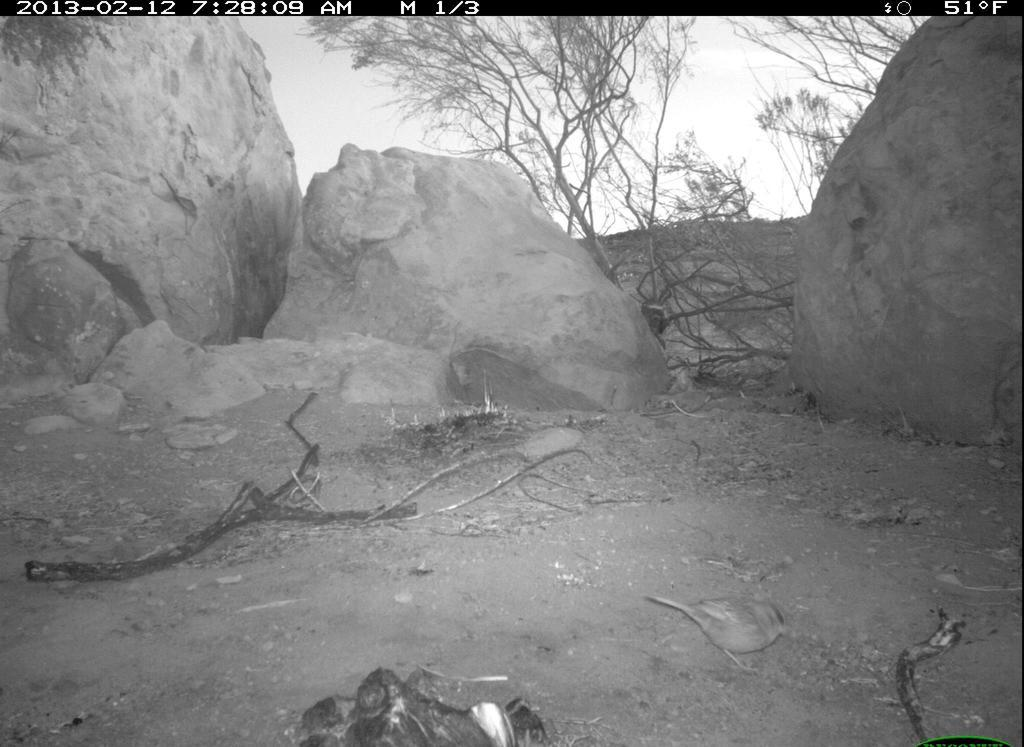bird: (644, 589, 793, 676)
